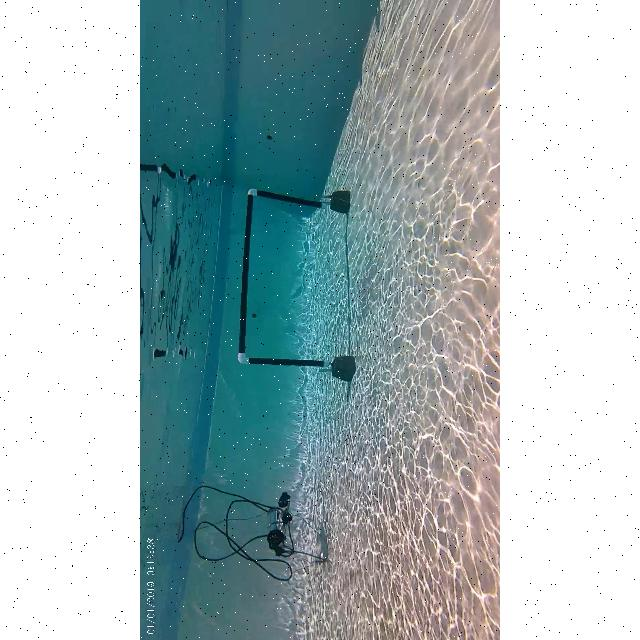prequal gate: (235, 186, 332, 370)
prequal gate leg l: (236, 348, 334, 378)
prequal gate leg r: (245, 181, 332, 215)
